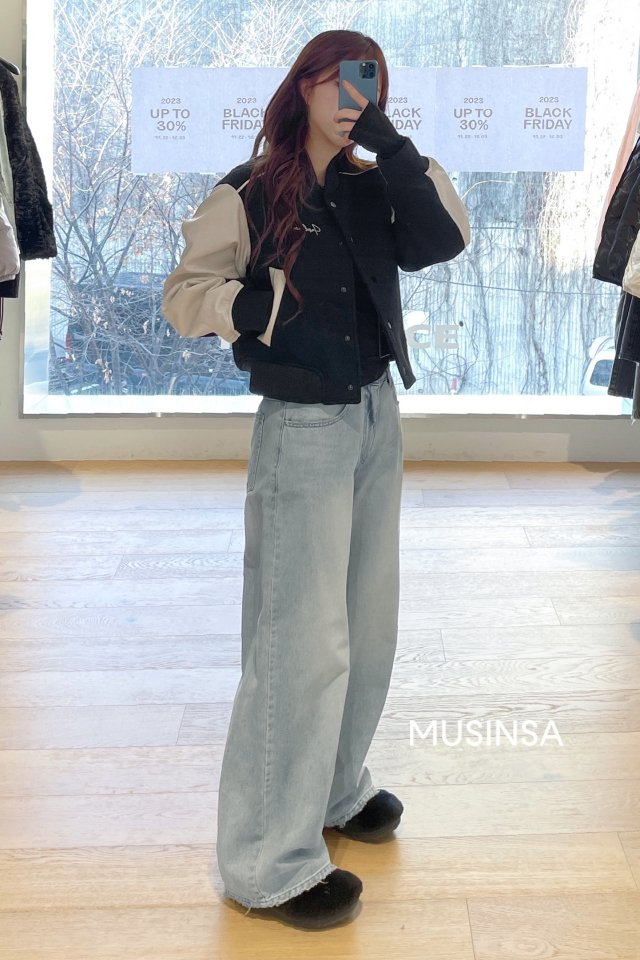Jeans: (197, 363, 420, 906)
Outer: (153, 139, 477, 397)
Shoes: (254, 780, 415, 929)
